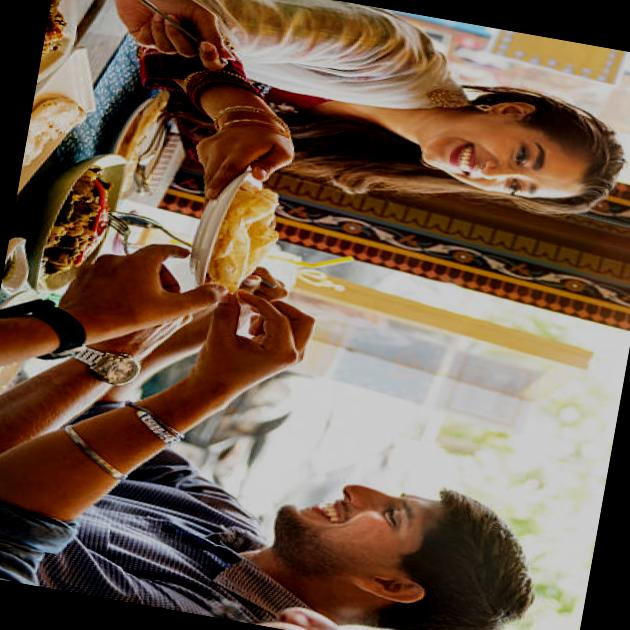there is a person: (236, 21, 630, 255), (144, 424, 520, 630)
wristwatch: (0, 286, 85, 368), (78, 337, 156, 399)
